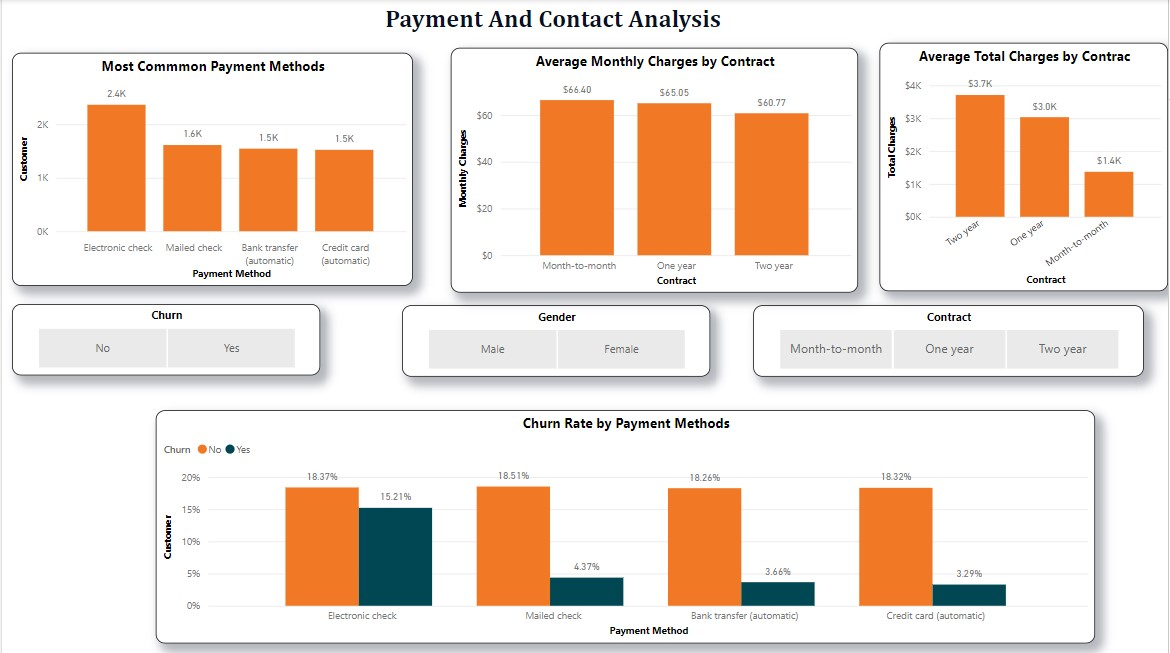

Layout of this report page (visuals, bound fields, positions):
{"tool":"powerbi","page":{"name":"Page 3","canvas":[1280,720],"ordinal":2},"visuals":[{"type":"textbox","box":[415.7,0,381.4,58.6],"z":0},{"type":"clusteredColumnChart","title":"Most Commmon Payment Methods","fields":{"Y":["CountNonNull(Telco_Churn.Customer_ID)"],"Category":["Telco_Churn.Payment_Method"]},"box":[11.4,58.6,440,255.7],"z":1000},{"type":"clusteredColumnChart","title":"Average Monthly Charges by Contract","fields":{"Category":["Telco_Churn.Contract"],"Y":["Avg(Telco_Churn.Monthly_Charges)"]},"box":[492.9,52.9,447.1,268.6],"z":2000},{"type":"clusteredColumnChart","title":"Average Total Charges by Contrac","fields":{"Category":["Telco_Churn.Contract"],"Y":["Avg(Telco_Churn.Total_Charges)"]},"box":[962.9,48.6,317.1,272.9],"z":3000},{"type":"slicer","title":"Churn","fields":{"Values":["Telco_Churn.Churn"]},"box":[11.4,334.3,338.6,78.6],"z":4000},{"type":"slicer","title":"Gender","fields":{"Values":["Telco_Churn.Gender"]},"box":[438.6,335.7,338.6,78.6],"z":5000},{"type":"clusteredColumnChart","title":"Churn Rate by Payment Methods","fields":{"Y":["CountNonNull(Telco_Churn.Customer_ID)"],"Category":["Telco_Churn.Payment_Method"],"Series":["Telco_Churn.Churn"]},"box":[168.6,451.4,1031.4,255.7],"z":6000},{"type":"slicer","title":"Contract","fields":{"Values":["Telco_Churn.Contract"]},"box":[824.3,335.7,428.6,78.6],"z":7000}]}

Visuals, with their boxes in screenshot pixels (x1, y1, x2, y2), scaled from the page's 1280x720 canvas onto the 1170x653 screenshot:
textbox: <box>380,0,729,53</box>
"Most Commmon Payment Methods" clusteredColumnChart: <box>10,53,413,285</box>
"Average Monthly Charges by Contract" clusteredColumnChart: <box>451,48,859,292</box>
"Average Total Charges by Contrac" clusteredColumnChart: <box>880,44,1169,292</box>
"Churn" slicer: <box>10,303,320,374</box>
"Gender" slicer: <box>401,304,710,376</box>
"Churn Rate by Payment Methods" clusteredColumnChart: <box>154,409,1097,641</box>
"Contract" slicer: <box>753,304,1145,376</box>
